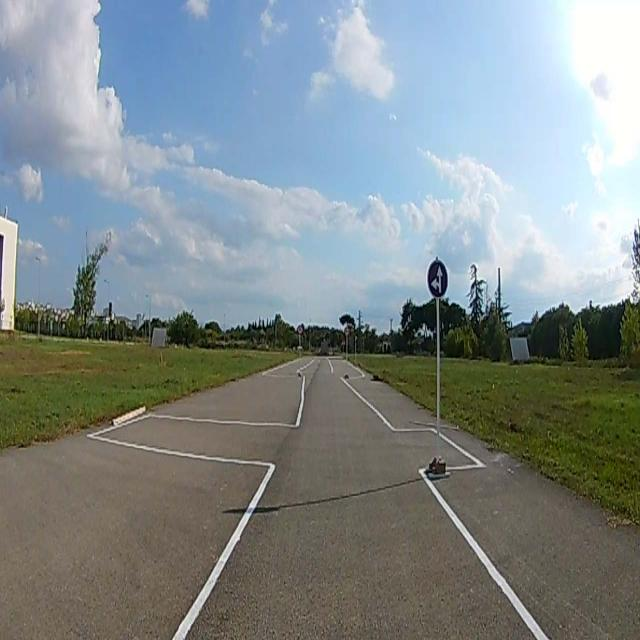ilerisol: (428, 260, 448, 298)
